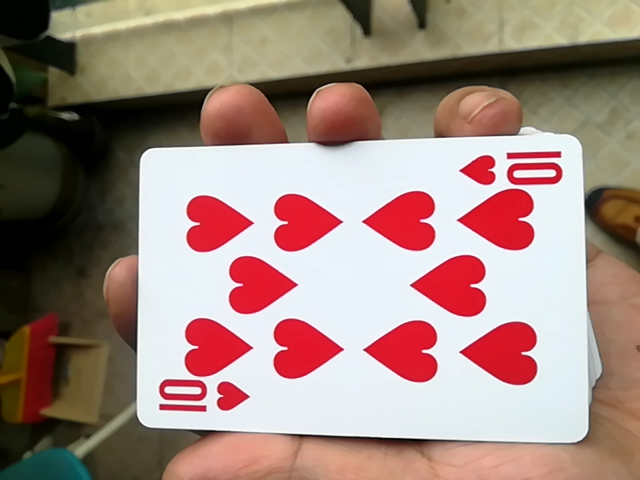hx 10: (129, 134, 585, 448)
